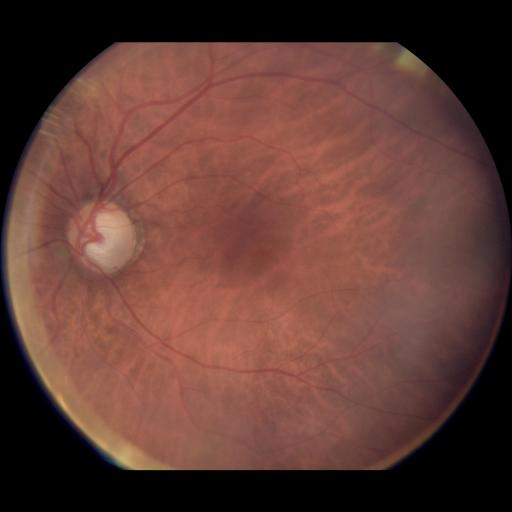Optic Disc: (68, 200, 137, 275)
